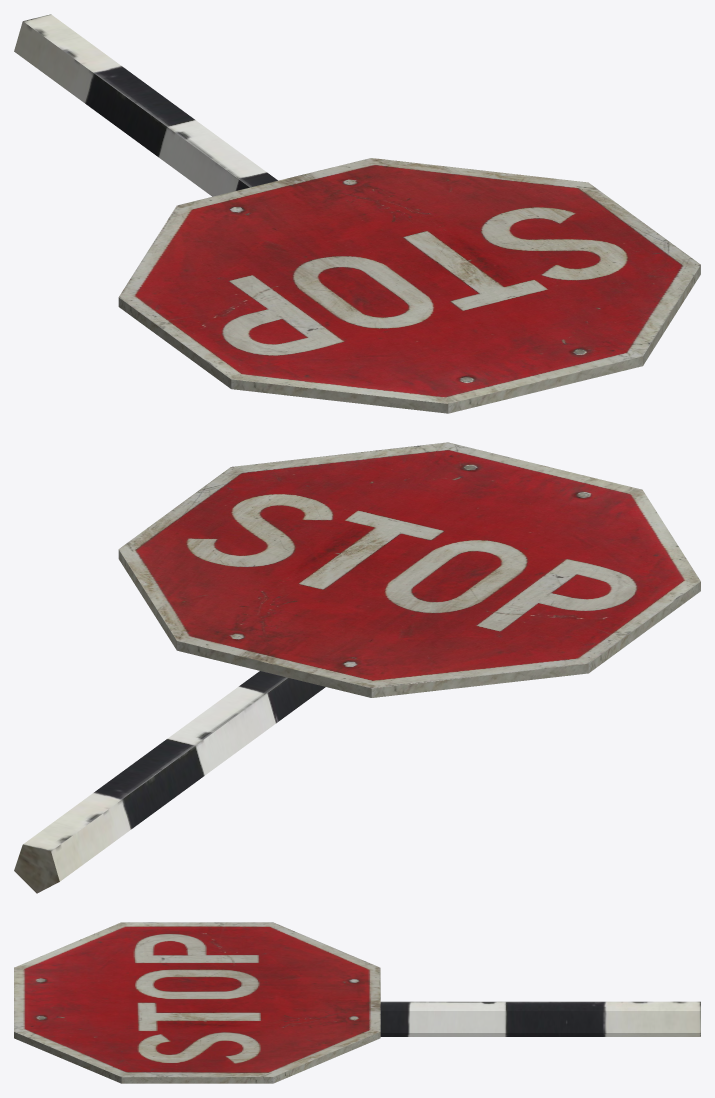
File: Stop_Balta.fbx
3 views of the same model, one above another, from view 1: azimuth 30°, elevation 25°; view 2: azimuth 150°, elevation 25°; view 3: azimuth 270°, elevation 25° (orthographic). The views are drawn at different scales.
Visible parts, largest first — view 1: Cylinder.001; view 2: Cylinder.001; view 3: Cylinder.001.
Part boxes in pixels (x1,y1,x2,y2): Cylinder.001: [14, 14, 700, 413]; Cylinder.001: [14, 442, 700, 893]; Cylinder.001: [14, 922, 700, 1083].
Size of the model in its own units: 49.14 by 5.53 by 92.08.
